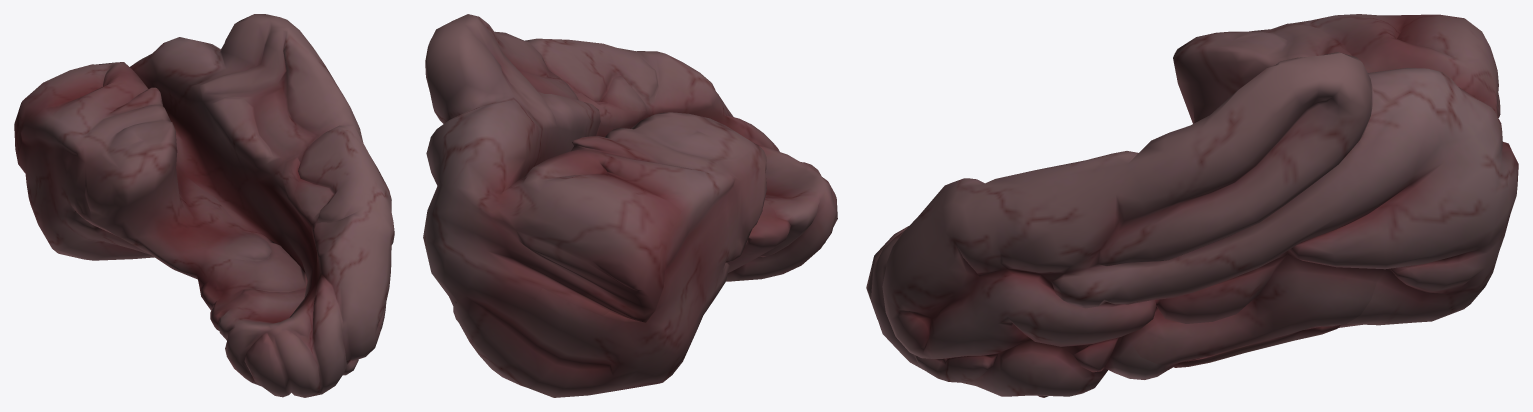
The model's file is Temporal_Lobe.gltf.
3 views of the same model, side by side, from view 1: azimuth 30°, elevation 25°; view 2: azimuth 150°, elevation 25°; view 3: azimuth 270°, elevation 25° (orthographic). The views are drawn at different scales.
Visible parts, largest first — view 1: Temporal_Lobe_Left; view 2: Temporal_Lobe_Left; view 3: Temporal_Lobe_Left.
Boxes of the visible parts, x1=… form: Temporal_Lobe_Left: x1=14, y1=14, x2=394, y2=397; Temporal_Lobe_Left: x1=423, y1=14, x2=837, y2=397; Temporal_Lobe_Left: x1=866, y1=14, x2=1518, y2=397.
Bounding box in the file's own units: 6.5 × 6.69 × 10.52.
1 material, 1 textured.
